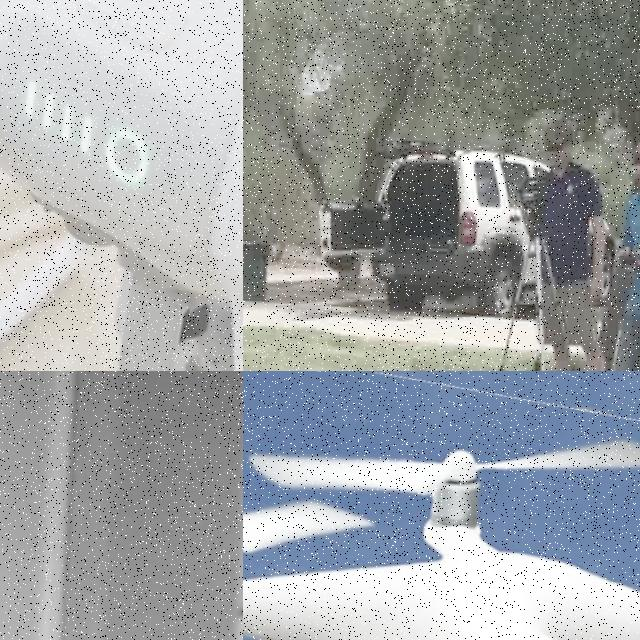drone: (243, 371, 640, 640), (0, 0, 243, 371)
